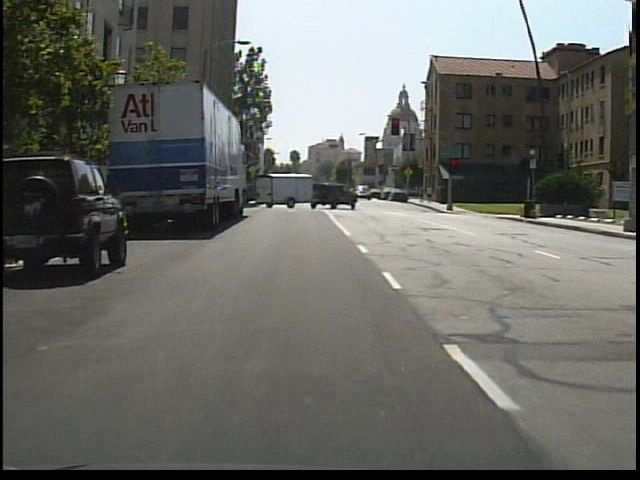person: (425, 184, 437, 210), (417, 186, 425, 208)
